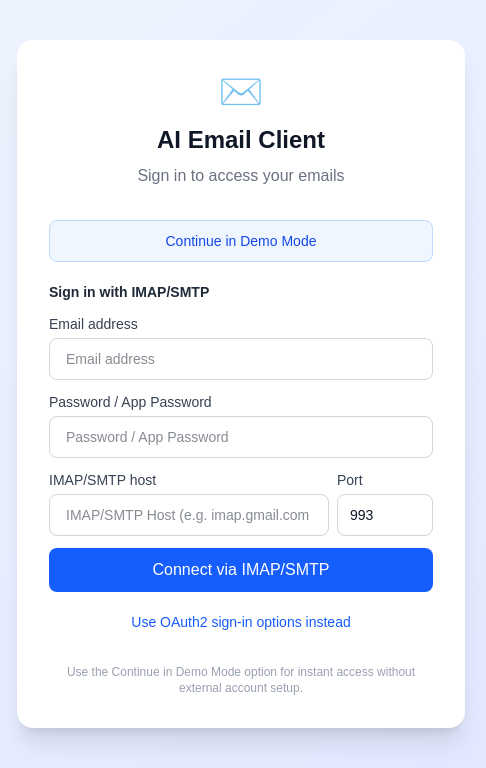
it: LoginPage › shows the generic IMAP hint for other domains
In the field labelled "Email address": (241, 359) x1=49 y1=338 x2=433 y2=380, type "person@customdomain.example"
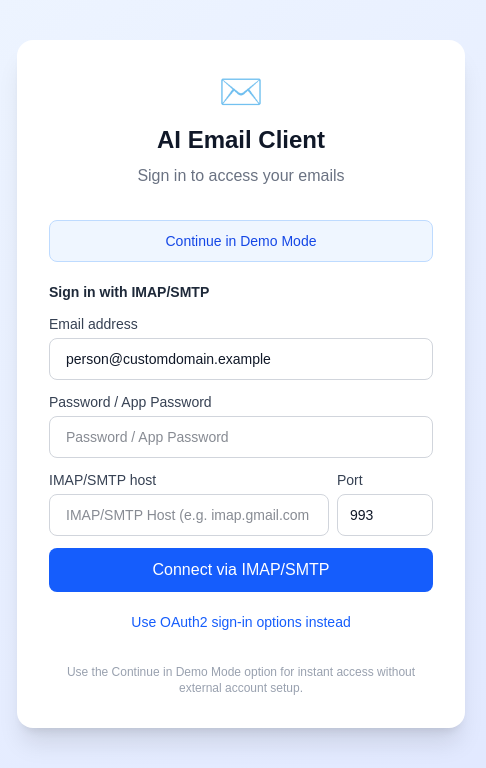
In the password field labelled "Password / App Password": (241, 437) x1=49 y1=416 x2=433 y2=458, type "bad-password"
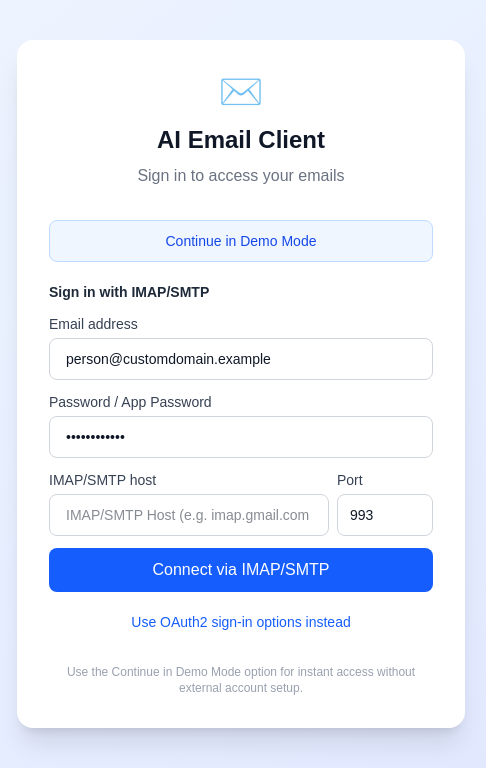
In the field labelled "IMAP/SMTP host": (189, 515) x1=49 y1=494 x2=329 y2=536, type "imap.customdomain.example"
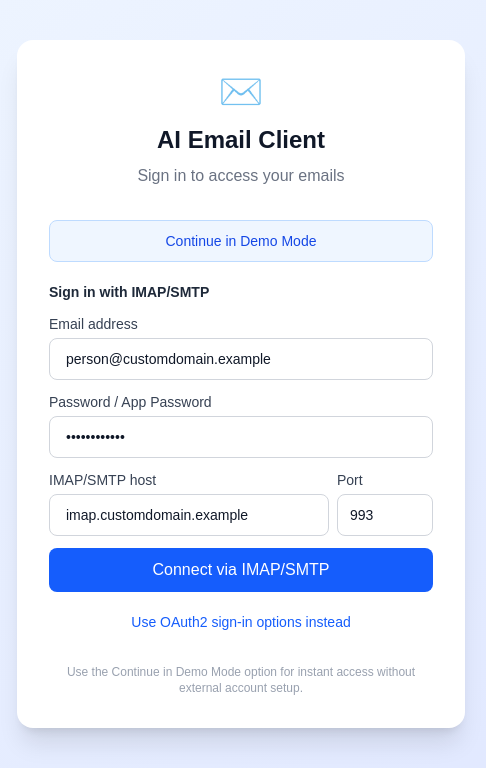
Click the button "Connect via IMAP/SMTP": (241, 570) x1=49 y1=548 x2=433 y2=592
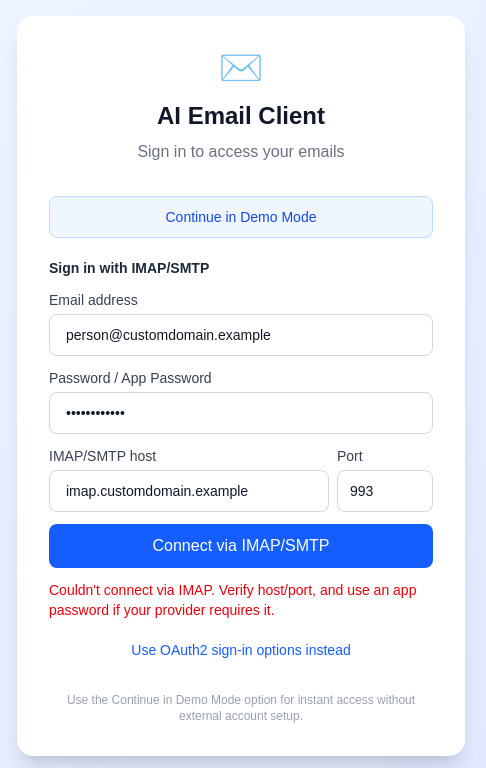
Now the message shows "Verify host/port", box x1=49 y1=582 x2=416 y2=618
Now the message shows "app password", box x1=49 y1=582 x2=416 y2=618
